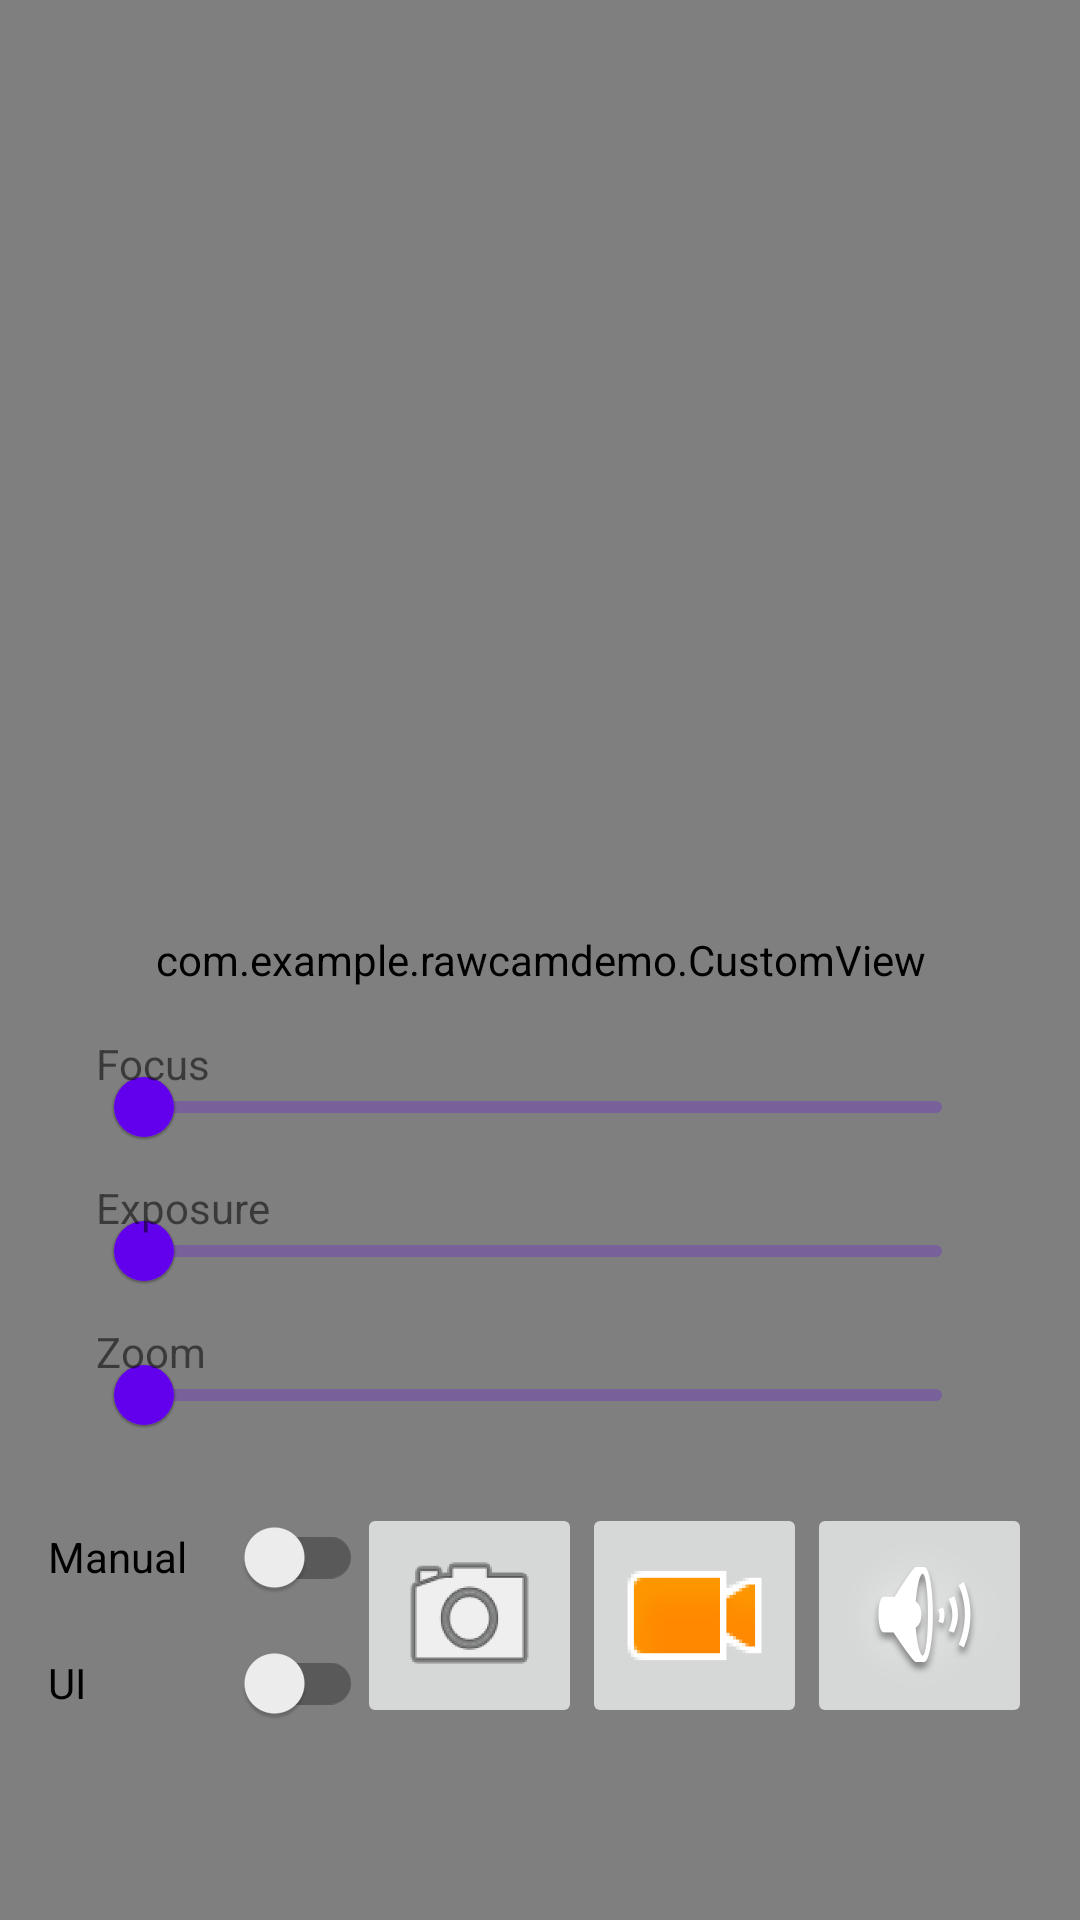

Icon click points for this 1080 x 1920 phone screenshot, format [x,y]:
Toggle Sound Button: [919,1615]
